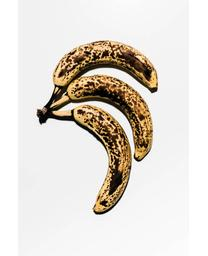banana: (35, 38, 160, 215)
